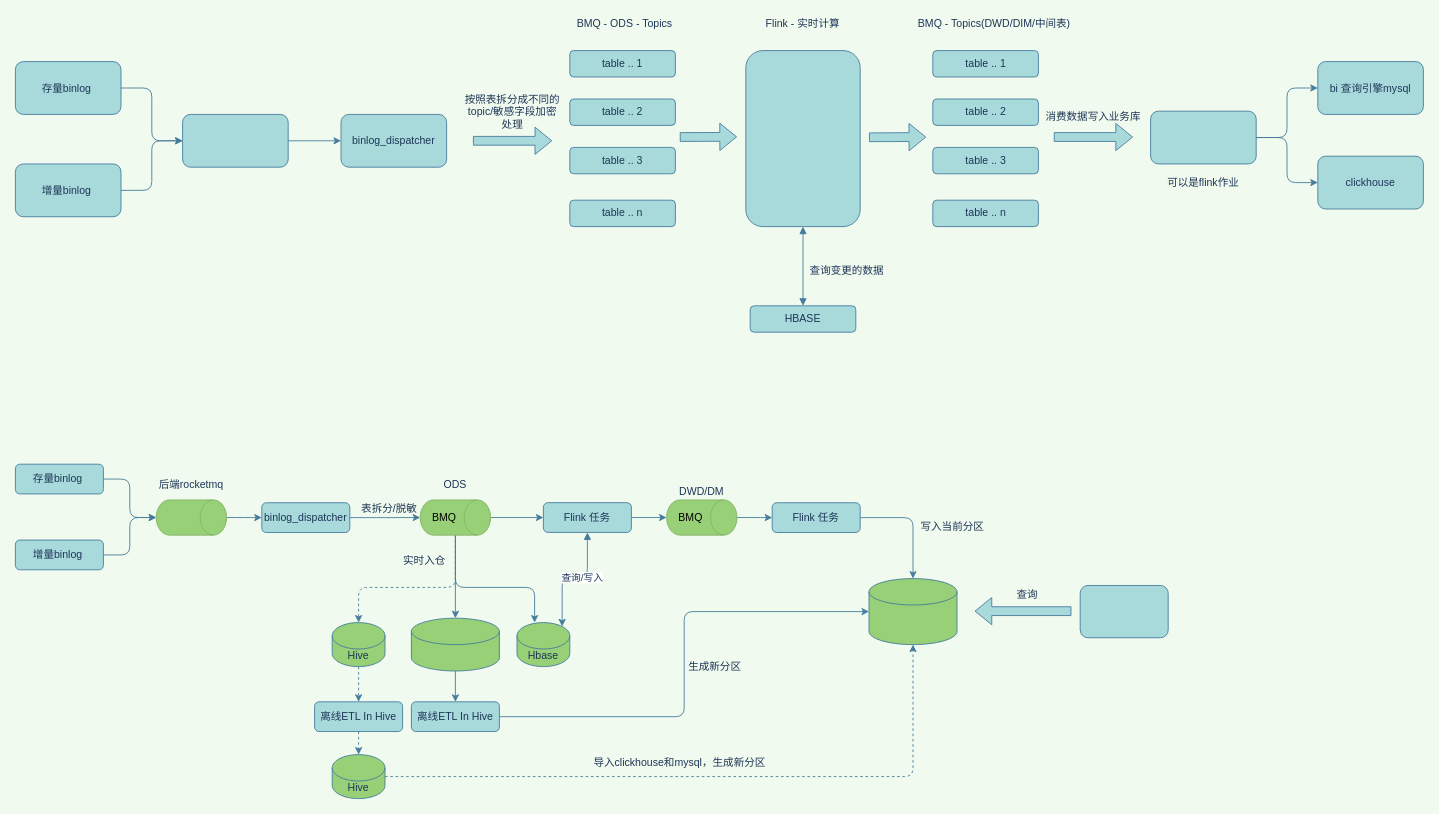
Image size: 1439x814. Some labels were removed from this diagram. Here are the shapes that lost their labels. From the top down, the centre of each, then its label:
point 235,140: DBUS/RocketMq
point 802,138: 实时计算
point 1203,137: data_sinker
point 191,517: dbus
point 912,611: OLAP (clickhouse/msyql)
point 1123,611: 查询引擎
point 455,644: clickhosue/mysql
